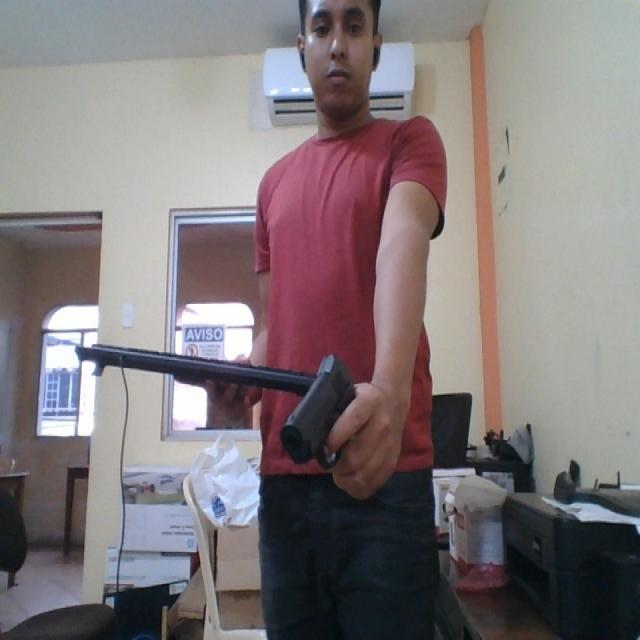weapon: (279, 348, 358, 469)
